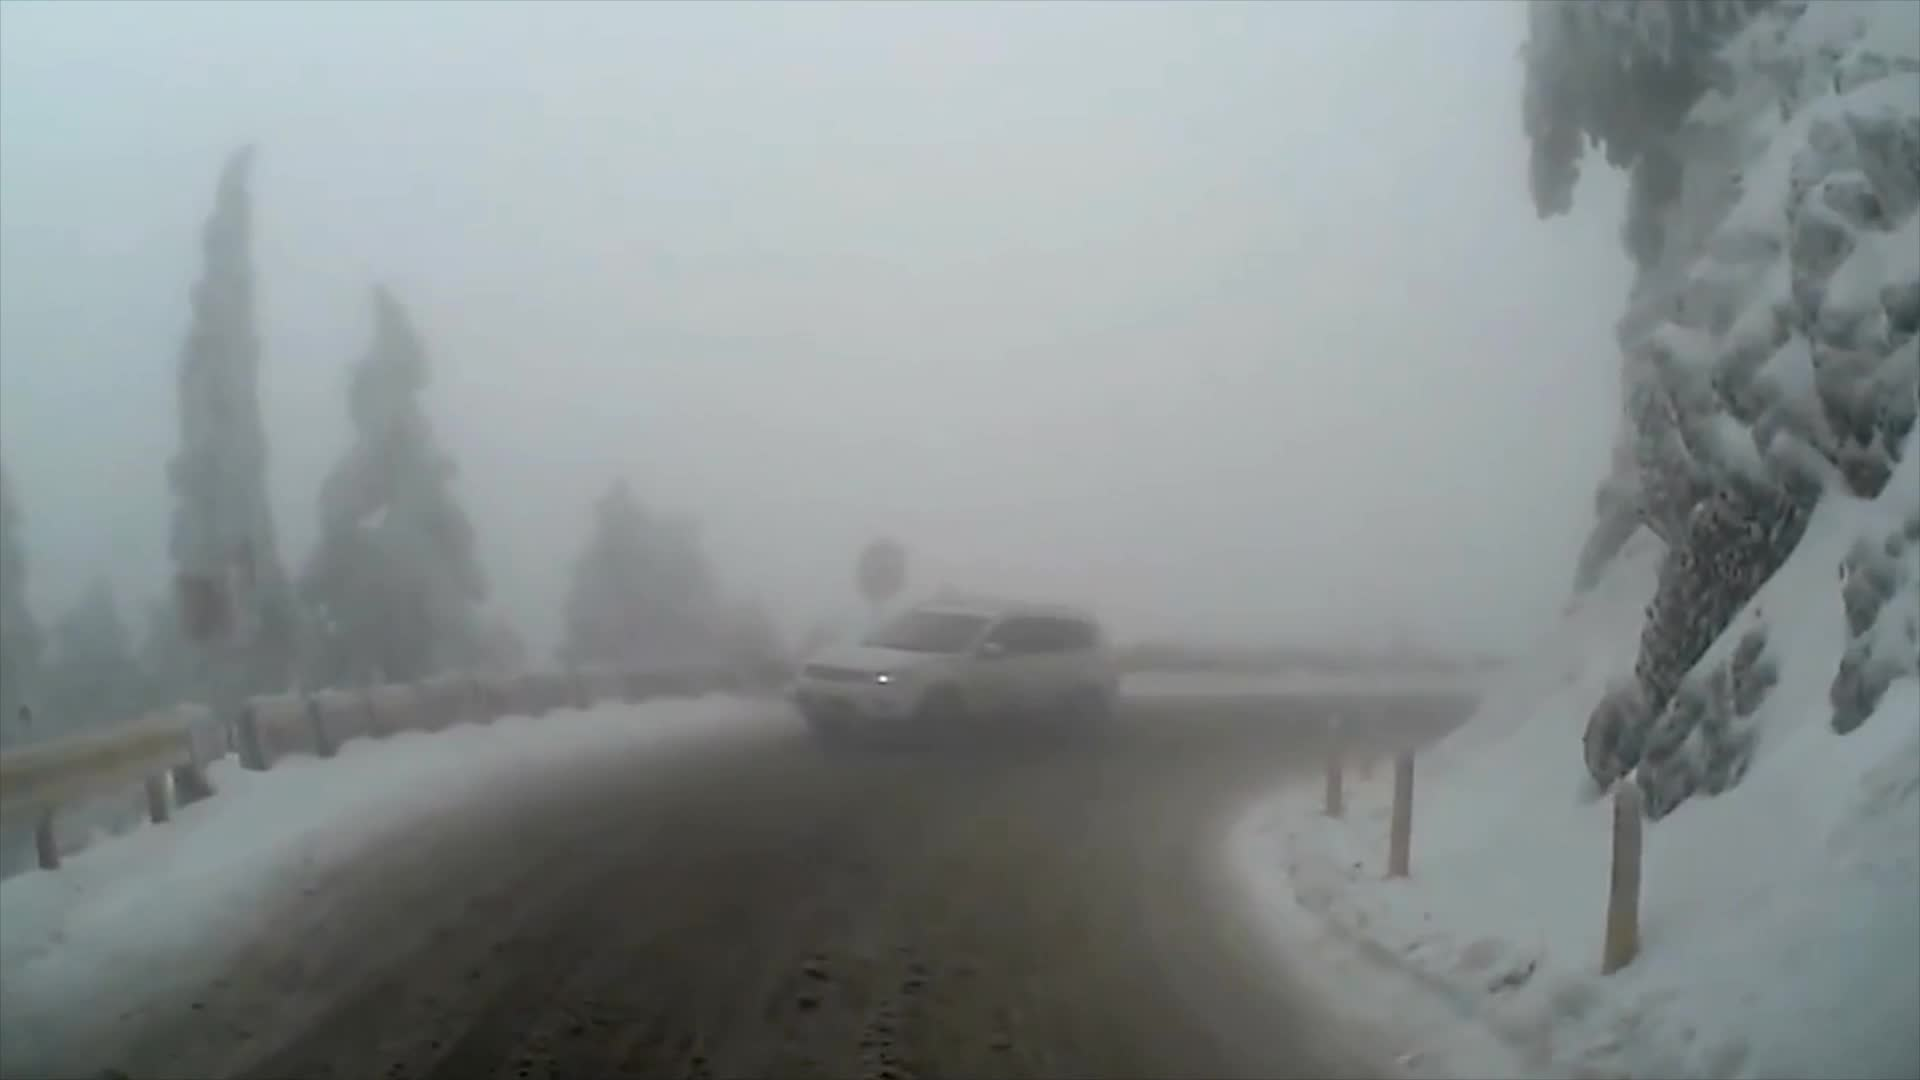vehicle: (793, 593, 1117, 761)
